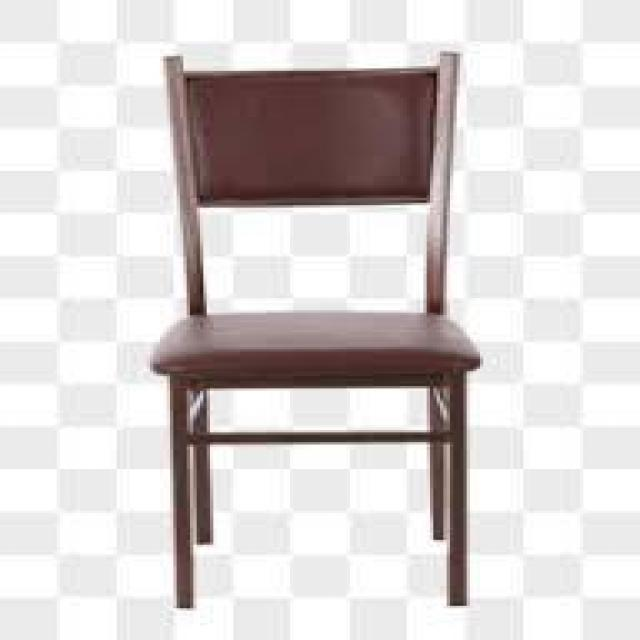chair: (63, 32, 577, 601)
